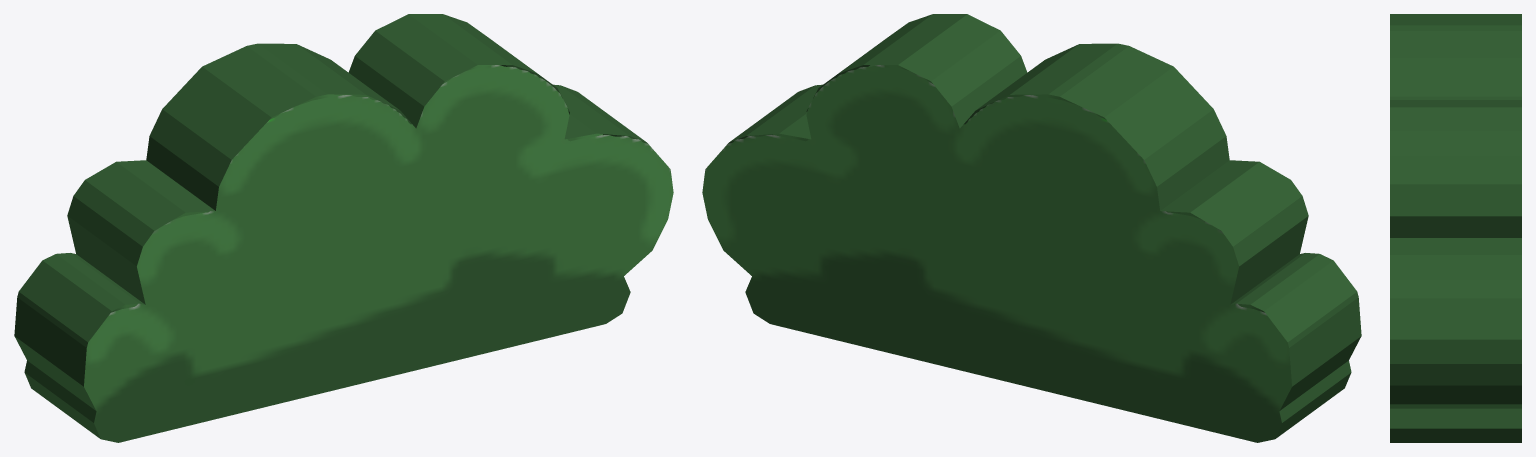
The model's file is GrassTuft06.fbx.
The picture shows the model from 3 angles, left to right: view 1: azimuth 30°, elevation 25°; view 2: azimuth 150°, elevation 25°; view 3: azimuth 270°, elevation 25°; orthographic projection. The views are drawn at different scales.
Parts seen in each view (by area): view 1: Grass06; view 2: Grass06; view 3: Grass06.
Boxes of the visible parts, x1,y1,x2,y2 form: Grass06: (14,14,673,442); Grass06: (702,14,1361,442); Grass06: (1390,14,1521,442).
Bounding box in the file's own units: 0.2325 × 0.1123 × 0.0475.
